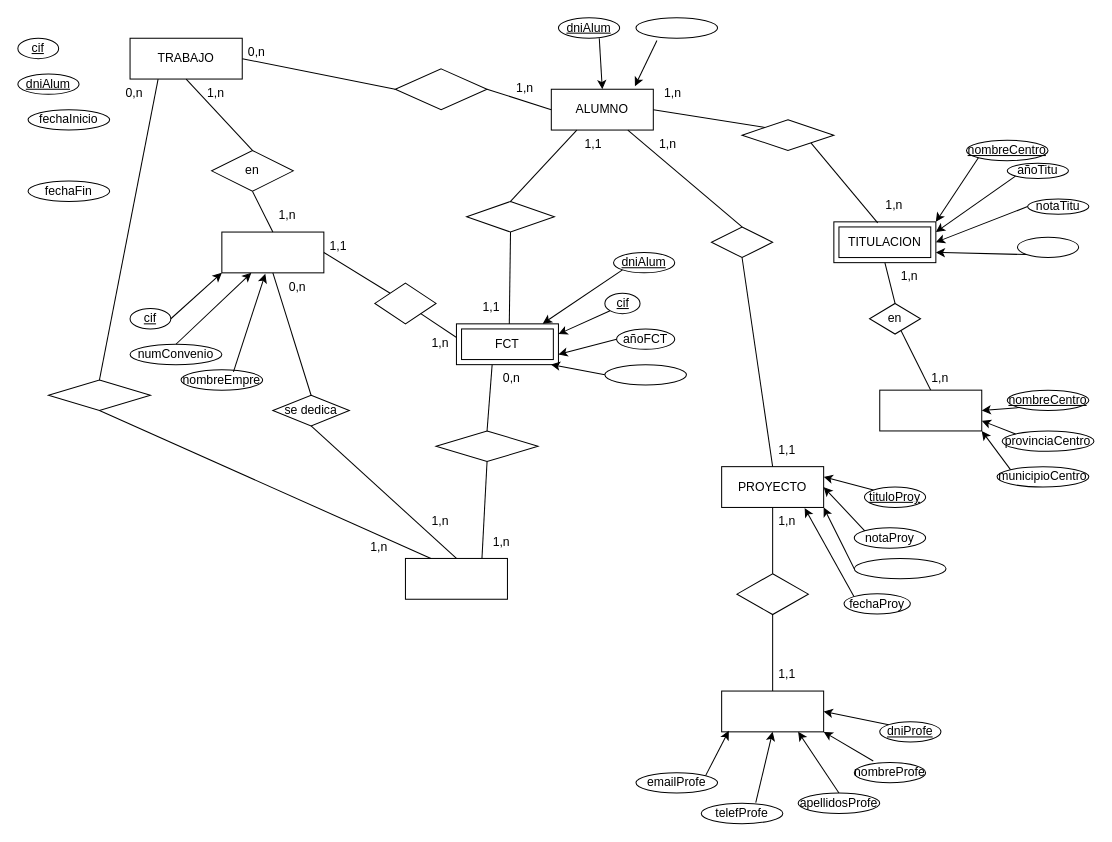
Some shapes in this 1112 by 842 pixel diagram are drawn without their labels. The shapes that lost their labels are listed below. From the top down, each one's centre as x and y in pixels, then its label:
At point 676,27: "nombreAlum".
At point 440,89: "trabaja".
At point 787,134: "estudiar".
At point 510,216: "realiza".
At point 272,252: "EMPRESA".
At point 741,242: "hace".
At point 1047,247: "tituloTitu".
At point 405,303: "tiene".
At point 645,374: "convocatoria".
At point 98,395: "consiste".
At point 930,410: "CENTRO".
At point 486,446: "abarca".
At point 455,578: "AREAS".
At point 899,568: "descripcionProy".
At point 772,594: "asigna".
At point 772,711: "PROFESOR".
